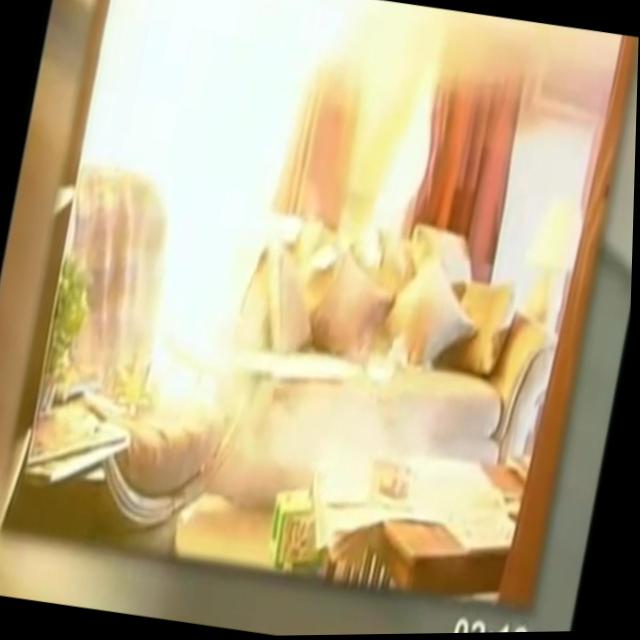fire: (40, 0, 371, 426)
